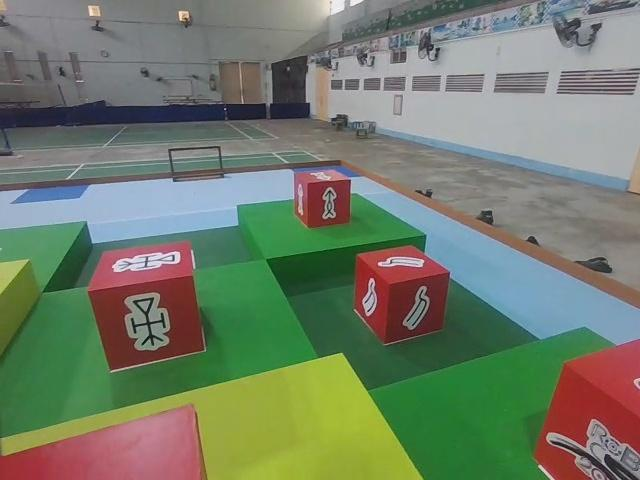R1: (530, 333, 640, 480)
R2 Real: (86, 239, 208, 375), (349, 241, 454, 347), (290, 167, 354, 232)
